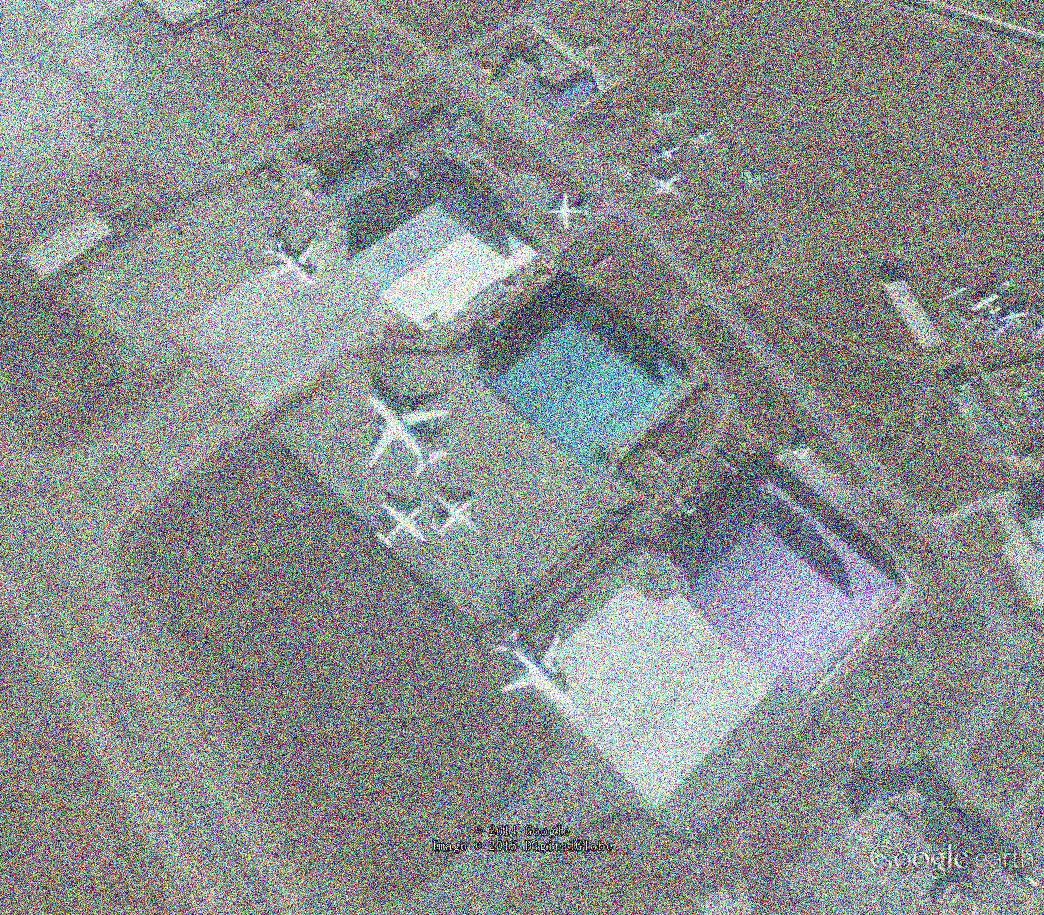aircraft: (363, 393, 453, 484), (492, 618, 579, 709), (369, 498, 433, 559), (255, 234, 322, 292), (429, 493, 486, 541), (546, 187, 598, 237), (648, 166, 687, 202), (949, 307, 987, 340), (934, 276, 973, 307), (994, 307, 1035, 333), (648, 102, 682, 132), (984, 315, 1015, 345), (651, 139, 685, 165), (970, 291, 1005, 316), (741, 165, 772, 193), (685, 124, 720, 148)
